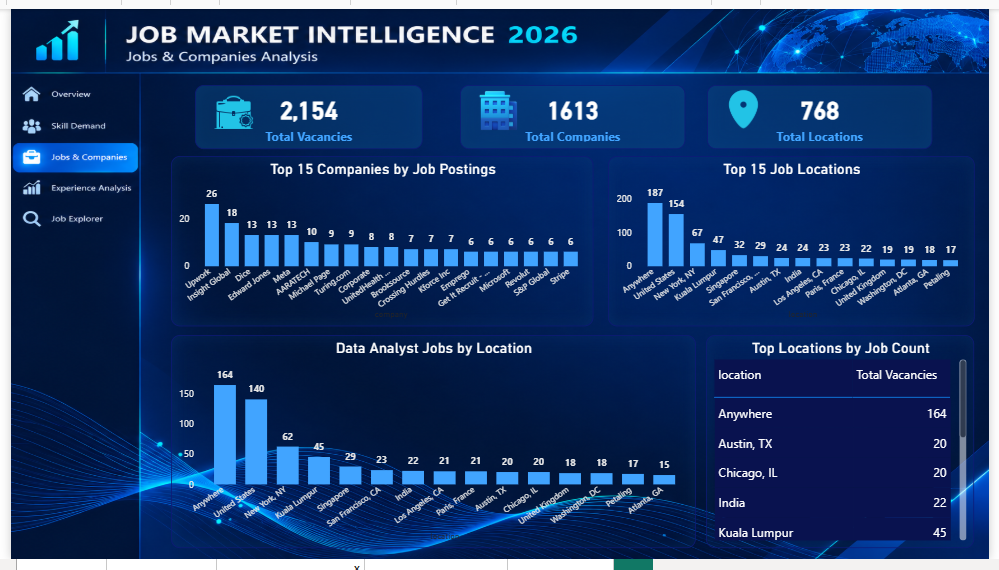

The dashboard page shown, as its layout file describes it:
{"tool":"powerbi","page":{"name":"Job and Companies","canvas":[1280,720],"ordinal":2},"visuals":[{"type":"card","fields":{"Values":["vacancies_cleaned.Total Vacancies"]},"box":[240.5,99.4,298.1,83.5],"z":0},{"type":"card","fields":{"Values":["vacancies_cleaned.Total Companies"]},"box":[587.5,99.4,295.2,83.5],"z":1000},{"type":"card","fields":{"Values":["vacancies_cleaned.Total Locations"]},"box":[911.5,99.4,295.2,83.5],"z":2000},{"type":"clusteredColumnChart","title":"Top 15 Companies by Job Postings","fields":{"Category":["vacancies_cleaned.company"],"Y":["vacancies_cleaned.Total Vacancies"]},"box":[208.8,193,553,223.2],"z":3000},{"type":"clusteredColumnChart","title":"Top 15 Job Locations","fields":{"Category":["vacancies_cleaned.location"],"Y":["vacancies_cleaned.Total Vacancies"]},"box":[781.9,193,479.5,223.2],"z":4000},{"type":"clusteredColumnChart","title":"Data Analyst Jobs by Location","fields":{"Category":["vacancies_cleaned.location"],"Y":["vacancies_cleaned.Total Vacancies"]},"box":[208.8,426.2,686.9,279.4],"z":5000},{"type":"tableEx","title":"Top Locations by Job Count","fields":{"Values":["vacancies_cleaned.location","vacancies_cleaned.Total Vacancies"]},"box":[910.1,426.2,351.4,279.4],"z":6000},{"type":"actionButton","box":[0,132.5,162.7,40.3],"z":7000},{"type":"actionButton","box":[0,172.8,162.7,40.3],"z":8000},{"type":"actionButton","box":[0,92.2,162.7,40.3],"z":9000},{"type":"actionButton","box":[0,213.1,162.7,40.3],"z":10000},{"type":"actionButton","box":[0,253.4,162.7,40.3],"z":11000},{"type":"image","box":[605.1,100.5,67.7,63.6],"z":12000},{"type":"image","box":[927.2,98.5,63.6,65.6],"z":13000},{"type":"image","box":[258.5,106.7,67.7,51.3],"z":14000}]}

Visuals, with their boxes on the page's 1280x720 design canvas (x1, y1, x2, y2). These are canvas units, not pixel positions in the 999x570 screenshot, which may show the page scaled, cropped or inside an application window:
card - vacancies_cleaned.Total Vacancies: 240/99/539/183
card - vacancies_cleaned.Total Companies: 588/99/883/183
card - vacancies_cleaned.Total Locations: 912/99/1207/183
"Top 15 Companies by Job Postings" clusteredColumnChart: 209/193/762/416
"Top 15 Job Locations" clusteredColumnChart: 782/193/1261/416
"Data Analyst Jobs by Location" clusteredColumnChart: 209/426/896/706
"Top Locations by Job Count" tableEx: 910/426/1262/706
actionButton: 0/132/163/173
actionButton: 0/173/163/213
actionButton: 0/92/163/132
actionButton: 0/213/163/253
actionButton: 0/253/163/294
image: 605/100/673/164
image: 927/98/991/164
image: 258/107/326/158
